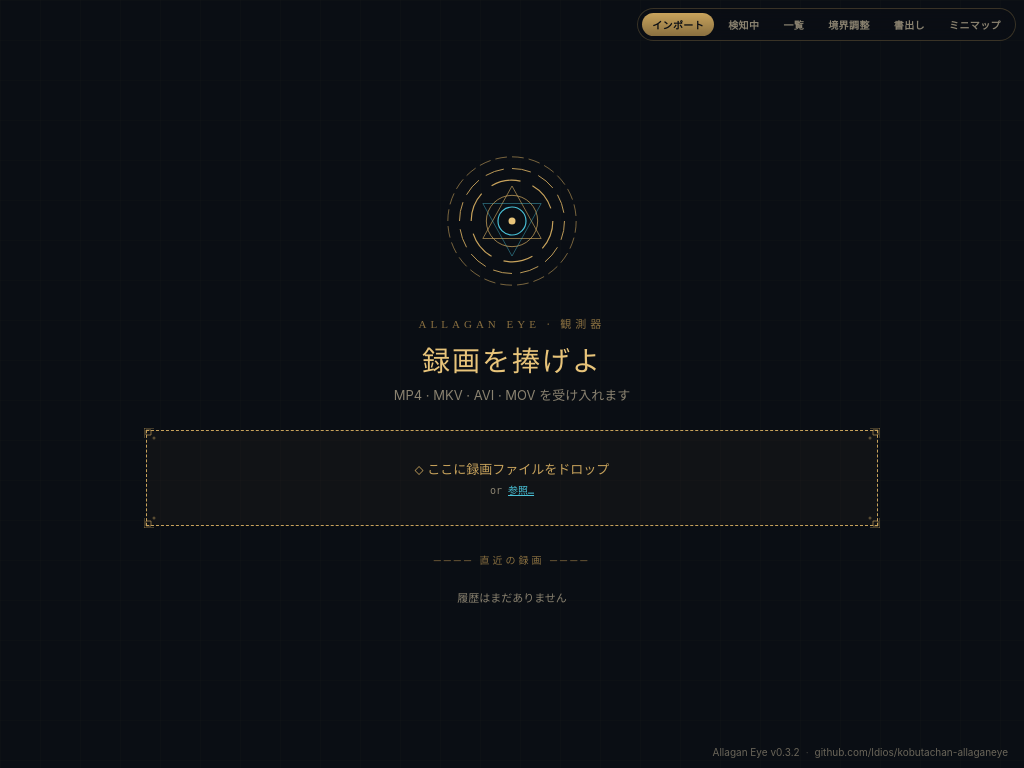
flow A1: drop -> selected via [参照…] › advances drop screen from idle through probing to selected
The width and height of the screenshot is (1024, 768).
What coordinates should you click on to do the following:
click the button "参照…"
I would click on:
 (521, 490)
Its box is [508, 482, 534, 497].
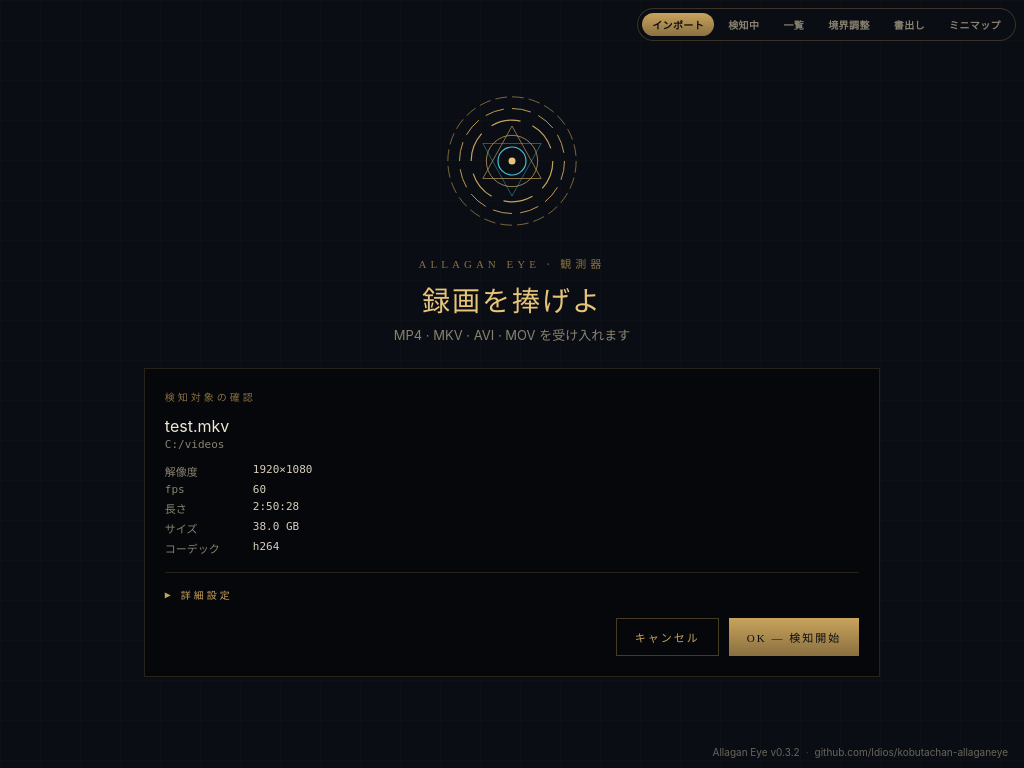
expect the element with test id "drop-selected-card" is shown: met, box [144, 368, 880, 677]
